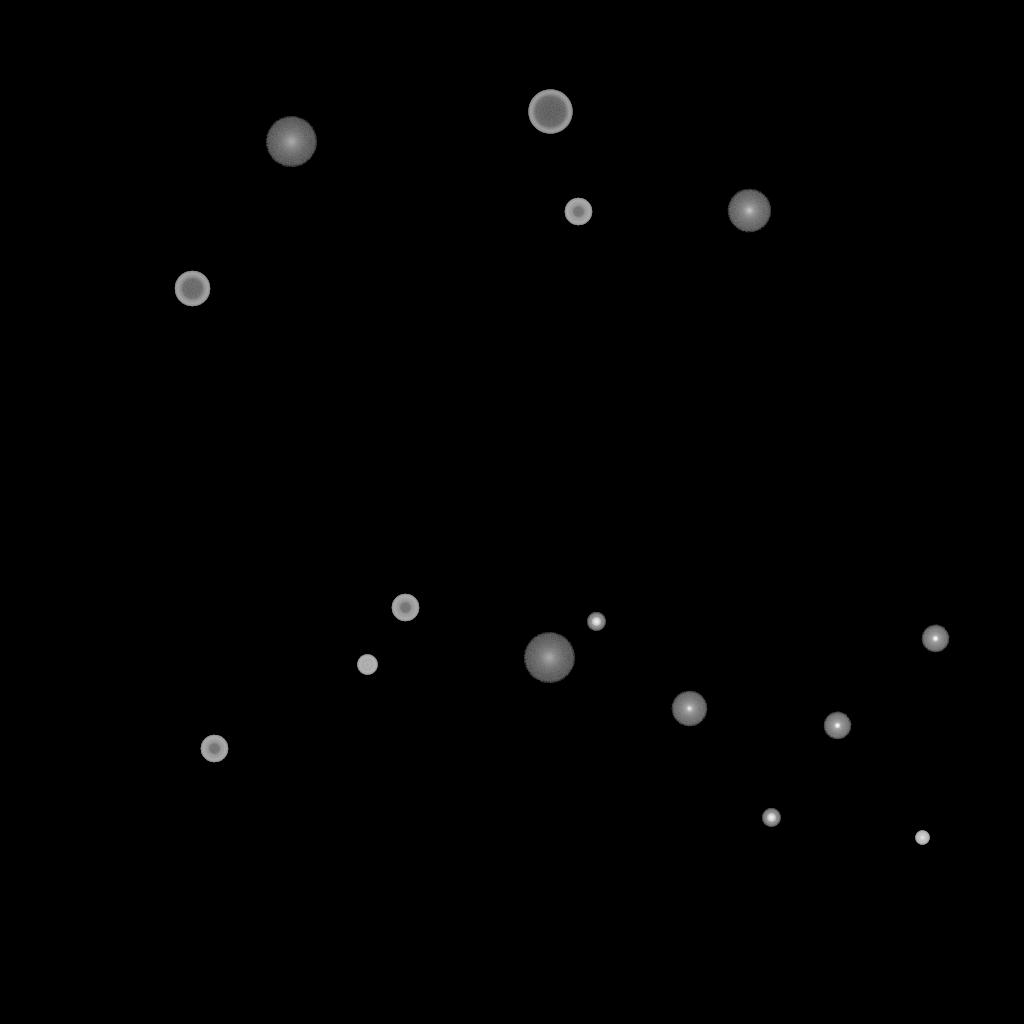depth:-10: (823, 712, 851, 740), (921, 625, 949, 653)
depth:-20: (762, 809, 780, 827), (587, 613, 605, 631)
depth:-30: (915, 831, 929, 845)
depth:-40: (357, 655, 377, 675)
depth:-50: (564, 198, 592, 226), (200, 735, 228, 763), (391, 594, 419, 622)
depth:-60: (174, 271, 210, 307)
depth:-70: (528, 90, 572, 134)
depth:0: (671, 691, 707, 727)
depth:10: (727, 189, 771, 233)
depth:20: (265, 117, 317, 167), (523, 633, 575, 683)
